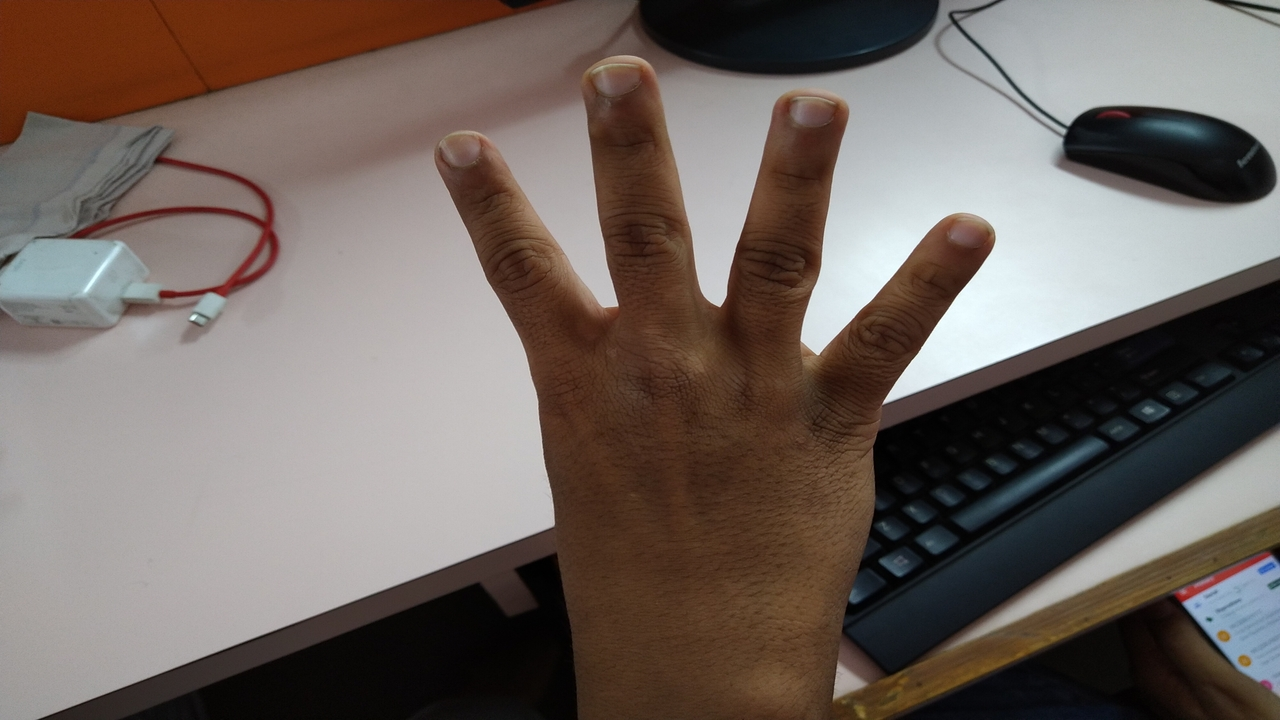fingertip: (572, 52, 660, 116), (772, 80, 852, 146), (424, 124, 500, 188), (936, 206, 1004, 266)
